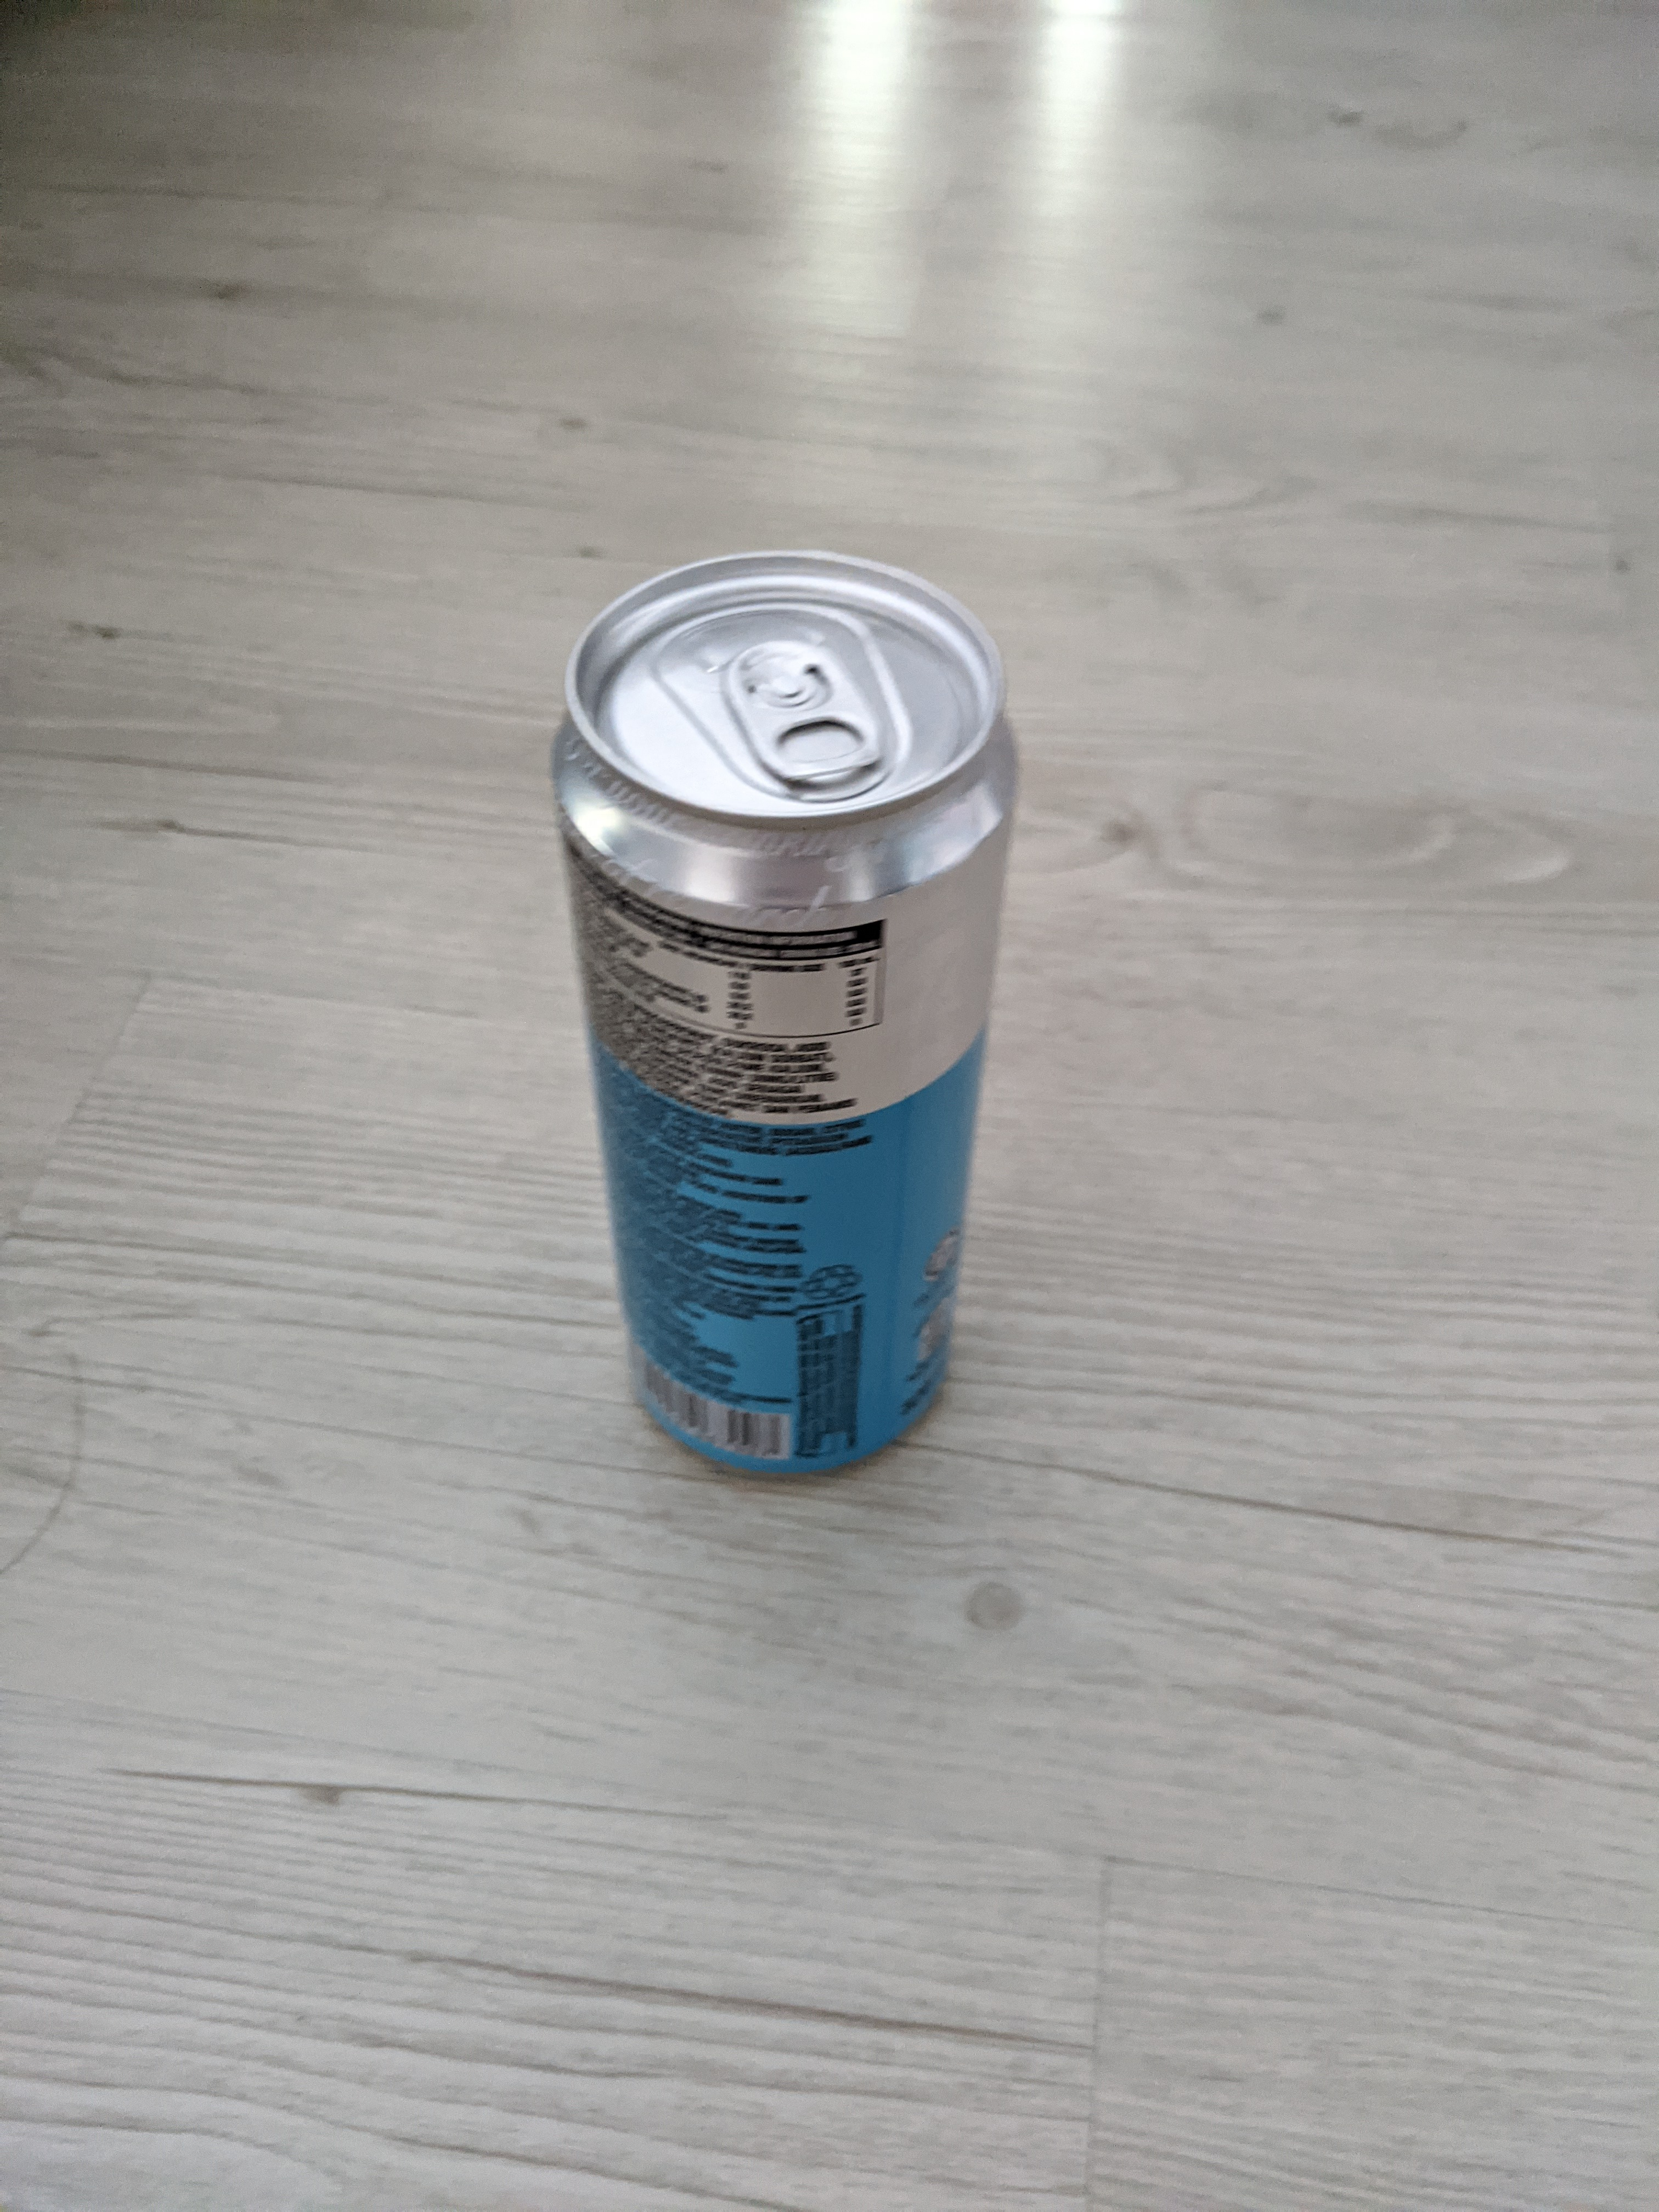schweppes drink can bitter lemon: (528, 523, 1037, 1514)
